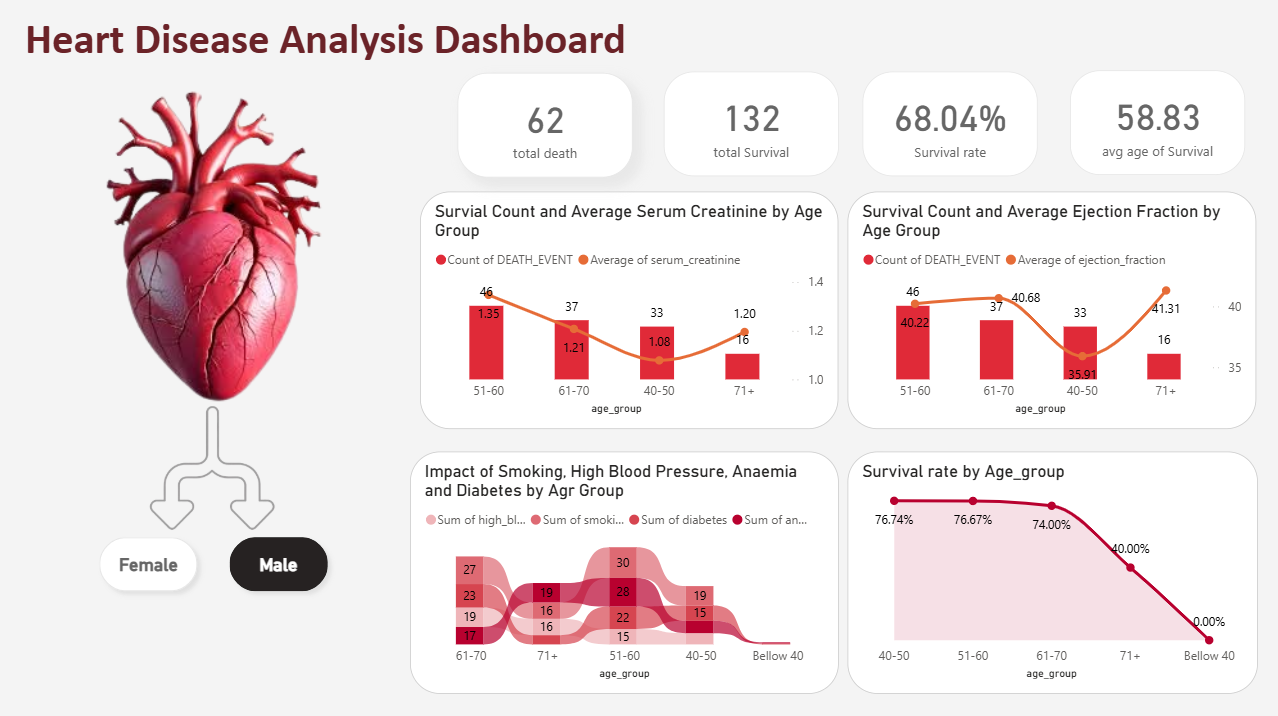

What the dashboard file says about the page in this screenshot:
{"tool":"powerbi","page":{"name":"Page 1","canvas":[1280,720],"ordinal":0},"visuals":[{"type":"lineClusteredColumnComboChart","title":"Survial Count and Average Serum Creatinine by Age Group","fields":{"Category":["heart_Disease_clinical_records_.age_group"],"Y":["CountNonNull(heart_Disease_clinical_records_.DEATH_EVENT)"],"Y2":["Avg(heart_Disease_clinical_records_.serum_creatinine)"]},"box":[420,191.9,418.8,237.5],"z":0},{"type":"lineClusteredColumnComboChart","title":"Survival Count and Average Ejection Fraction by Age Group","fields":{"Category":["heart_Disease_clinical_records_.age_group"],"Y":["CountNonNull(heart_Disease_clinical_records_.DEATH_EVENT)"],"Y2":["Avg(heart_Disease_clinical_records_.ejection_fraction)"]},"box":[847.5,191.9,408.8,237.5],"z":1000},{"type":"lineChart","title":"Survival rate by Age_group","fields":{"Category":["heart_Disease_clinical_records_.age_group"],"Y":["measure.Survival rate"]},"box":[847.5,452.5,410,242.5],"z":2000},{"type":"ribbonChart","title":"Impact of Smoking, High Blood Pressure, Anaemia and Diabetes by Agr Group","fields":{"Category":["heart_Disease_clinical_records_.age_group"],"Y":["Sum(heart_Disease_clinical_records_.high_blood_pressure)","Sum(heart_Disease_clinical_records_.smoking)","Sum(heart_Disease_clinical_records_.diabetes)","Sum(heart_Disease_clinical_records_.anaemia)"]},"box":[410,452.5,428.8,242.5],"z":3000},{"type":"advancedSlicerVisual","fields":{"Values":["heart_Disease_clinical_records_.gender"]},"box":[82.5,526.2,393.8,83.8],"z":4000},{"type":"card","fields":{"Values":["measure.avg age of Survival"]},"box":[1070,70.7,175,105],"z":5000},{"type":"card","fields":{"Values":["measure.total death"]},"box":[457.5,73.2,175,105],"z":6000},{"type":"card","fields":{"Values":["measure.total Survival"]},"box":[663.8,71.9,175,105],"z":7000},{"type":"card","fields":{"Values":["measure.Survival rate"]},"box":[862.5,71.9,175,105],"z":8000},{"type":"textbox","box":[20,8.8,630,67.5],"z":9000},{"type":"image","box":[43.8,76.2,346.2,338.8],"z":9001},{"type":"image","box":[127.5,396.2,168.8,158.8],"z":9002}]}

Visuals, with their boxes in screenshot pixels (x1, y1, x2, y2), scaled from the page's 1280x720 canvas onto the 1278x716 screenshot:
"Survial Count and Average Serum Creatinine by Age Group" lineClusteredColumnComboChart: rect(419, 191, 837, 427)
"Survival Count and Average Ejection Fraction by Age Group" lineClusteredColumnComboChart: rect(846, 191, 1254, 427)
"Survival rate by Age_group" lineChart: rect(846, 450, 1256, 691)
"Impact of Smoking, High Blood Pressure, Anaemia and Diabetes by Agr Group" ribbonChart: rect(409, 450, 837, 691)
advancedSlicerVisual - heart_Disease_clinical_records_.gender: rect(82, 523, 476, 607)
card - measure.avg age of Survival: rect(1068, 70, 1243, 175)
card - measure.total death: rect(457, 73, 632, 177)
card - measure.total Survival: rect(663, 72, 837, 176)
card - measure.Survival rate: rect(861, 72, 1036, 176)
textbox: rect(20, 9, 649, 76)
image: rect(44, 76, 389, 413)
image: rect(127, 394, 296, 552)
